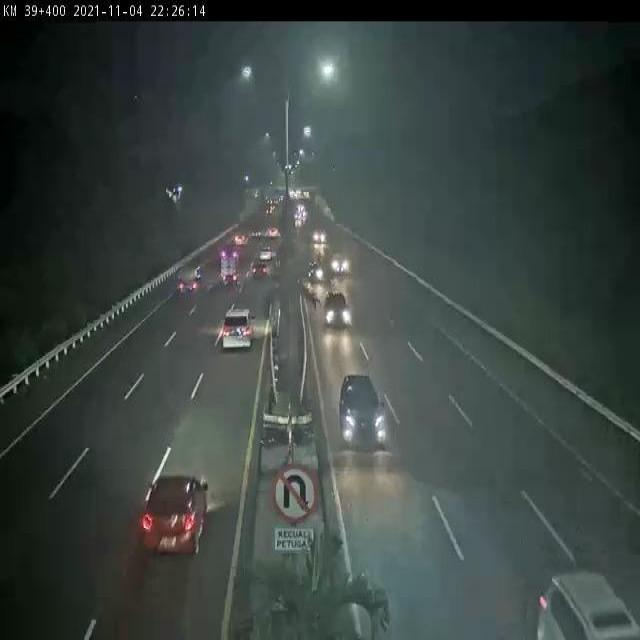car: (545, 576, 616, 640), (151, 473, 202, 551), (336, 379, 388, 449), (219, 308, 256, 352), (328, 289, 355, 340), (332, 253, 349, 279), (305, 261, 326, 279), (260, 247, 271, 265), (254, 265, 266, 279)
truck-s-: (182, 259, 200, 293), (218, 255, 238, 285)
